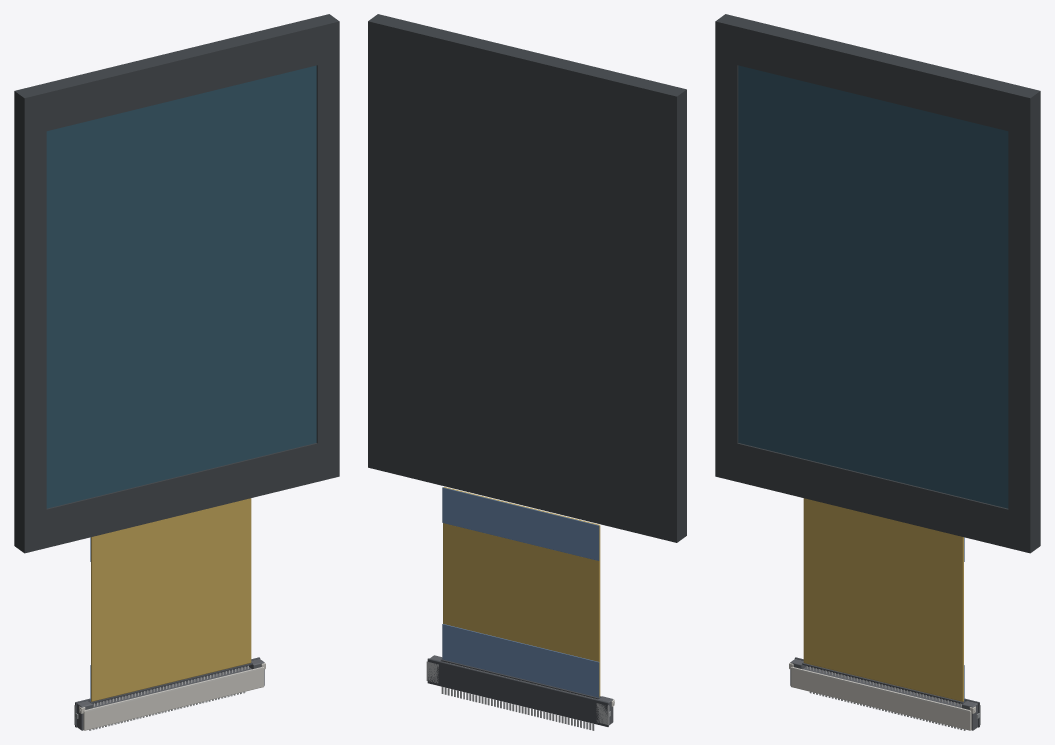
Rendered from er-tft028a2-4.glb.
3 views of the same model, side by side, from view 1: azimuth 30°, elevation 25°; view 2: azimuth 150°, elevation 25°; view 3: azimuth 330°, elevation 25° (orthographic).
Parts seen in each view (by area): view 1: er-tft028a2-4_172, er-tft028a2-4_171, er-tft028a2-4_167, er-tft028a2-4_170, er-tft028a2-4_155, er-tft028a2-4_53; view 2: er-tft028a2-4_170, er-tft028a2-4_167, er-tft028a2-4_168, er-tft028a2-4_169, er-tft028a2-4_52, er-tft028a2-4_171, er-tft028a2-4_165; view 3: er-tft028a2-4_172, er-tft028a2-4_171, er-tft028a2-4_167, er-tft028a2-4_170, er-tft028a2-4_155, er-tft028a2-4_53.
Boxes of the visible parts, box(x1,y1,x2,y2) form: er-tft028a2-4_172: box(46, 65, 316, 508); er-tft028a2-4_171: box(22, 20, 339, 553); er-tft028a2-4_167: box(91, 498, 251, 701); er-tft028a2-4_170: box(14, 14, 336, 551); er-tft028a2-4_155: box(83, 667, 263, 730); er-tft028a2-4_53: box(77, 659, 264, 730); er-tft028a2-4_170: box(368, 15, 684, 542); er-tft028a2-4_167: box(443, 487, 600, 696); er-tft028a2-4_168: box(442, 624, 599, 697); er-tft028a2-4_169: box(442, 487, 599, 560); er-tft028a2-4_52: box(427, 658, 608, 726); er-tft028a2-4_171: box(376, 14, 686, 536); er-tft028a2-4_165: box(437, 666, 598, 719); er-tft028a2-4_172: box(738, 65, 1008, 508); er-tft028a2-4_171: box(715, 20, 1032, 553); er-tft028a2-4_167: box(803, 498, 963, 701); er-tft028a2-4_170: box(718, 14, 1040, 551); er-tft028a2-4_155: box(791, 667, 971, 730); er-tft028a2-4_53: box(790, 659, 977, 730).
Size of the model in its own units: 50.2 by 101 by 4.13.
